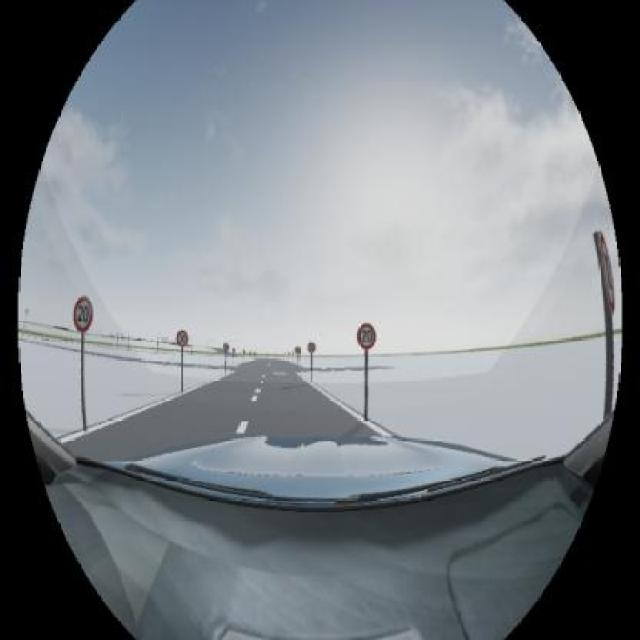forb_speed_over_20: (73, 297, 93, 332), (358, 323, 376, 349)
